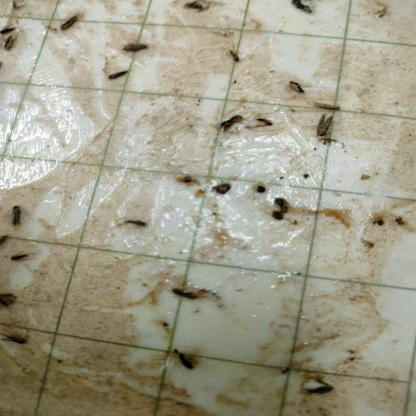prays_oleae: (0, 282, 24, 319), (2, 324, 31, 354), (54, 13, 88, 38), (1, 202, 28, 233), (9, 242, 31, 274), (0, 32, 22, 60), (226, 33, 241, 74), (313, 113, 335, 140), (286, 76, 306, 97), (0, 227, 9, 254)
